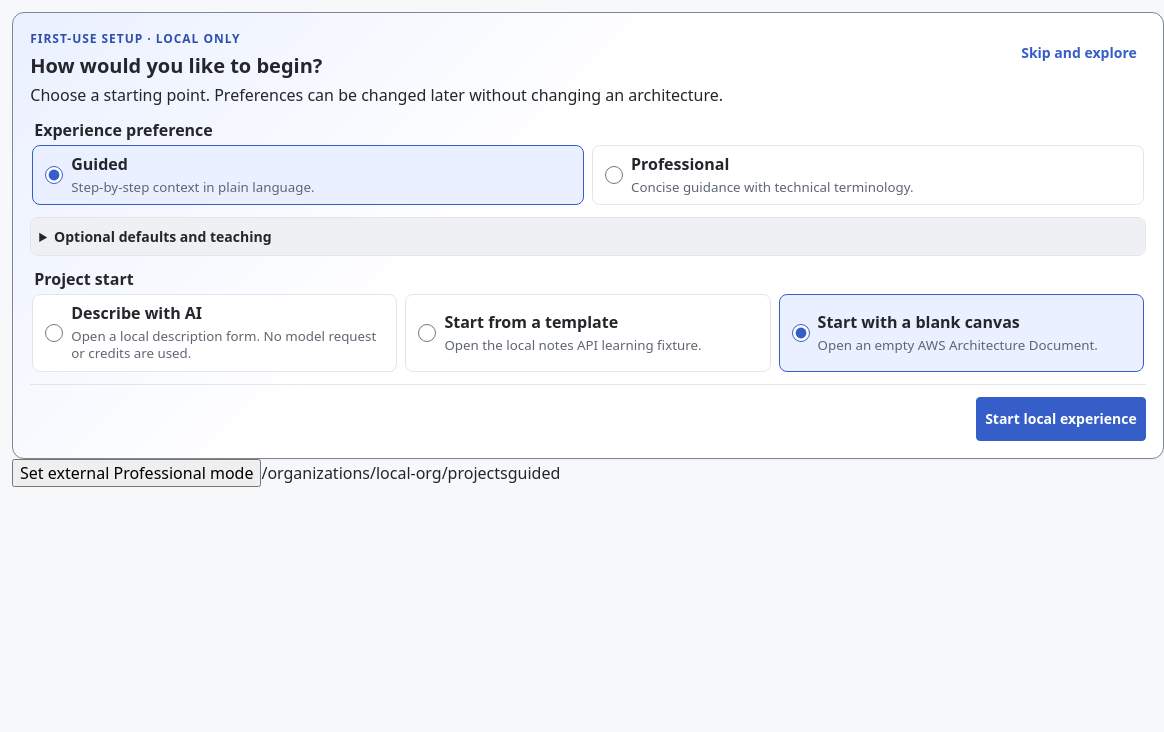
Test case: FirstUseExperience › starts with lightweight safe choices and can be skipped
This screenshot has width=1164, height=732.
Expected: the radio button labelled "Guided Step-by-step context in plain language." is checked, [45,166,63,184]
Expected: the radio button labelled "Start with a blank canvas" is checked, [792,324,810,342]
Click the heading "Optional defaults and teaching" at (163, 237), box [31,218,1145,255]
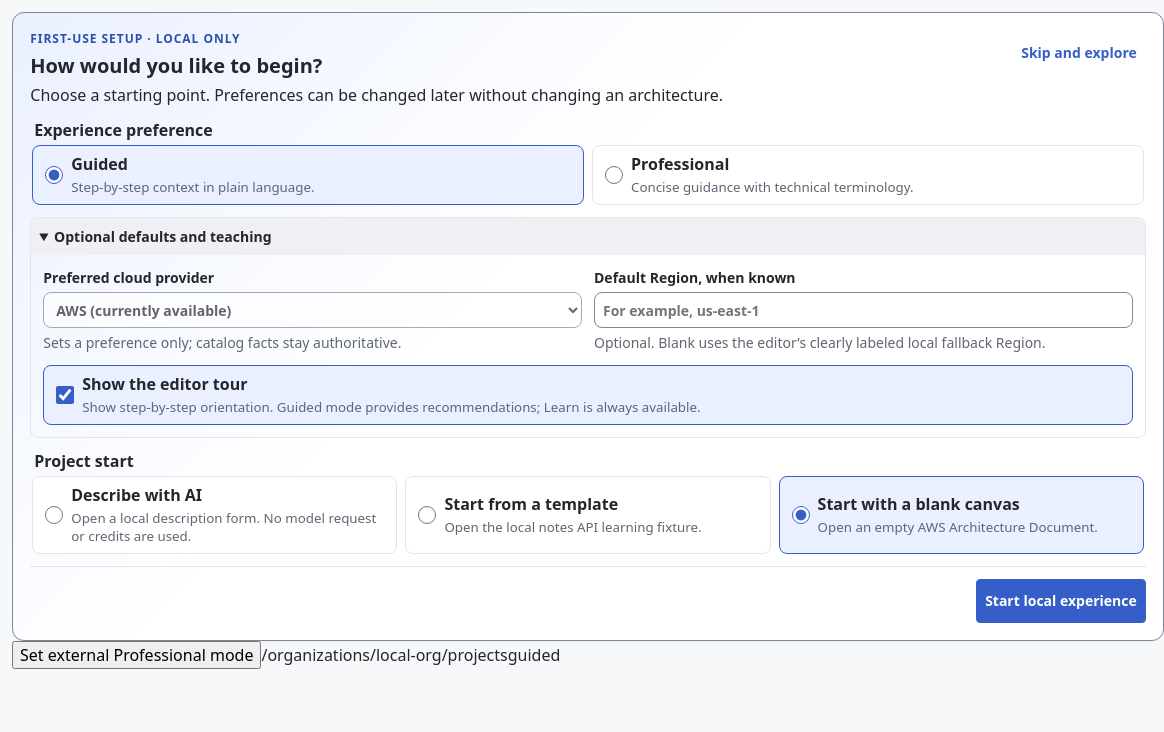
Expected: the dropdown labelled "Preferred cloud provider" shows "AWS (currently available)", [43,292,582,328]
Expected: the checkbox labelled "Show the editor tour" is checked, [56,386,74,404]
Click the button "Skip and explore" at (1079, 52), box [1012,30,1146,74]
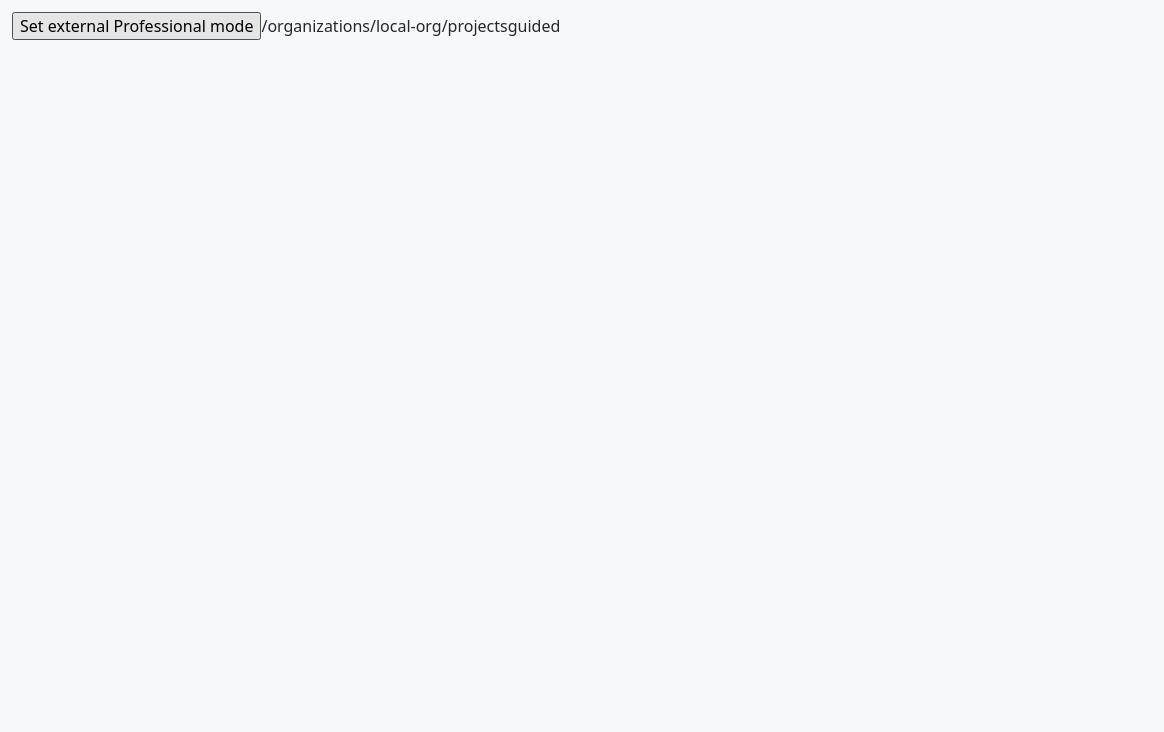
Expected: the text with test id "location" reads "/organizations/local-org/projects", [262,15,508,37]
Expected: the element with test id "first-use-experience" is gone
